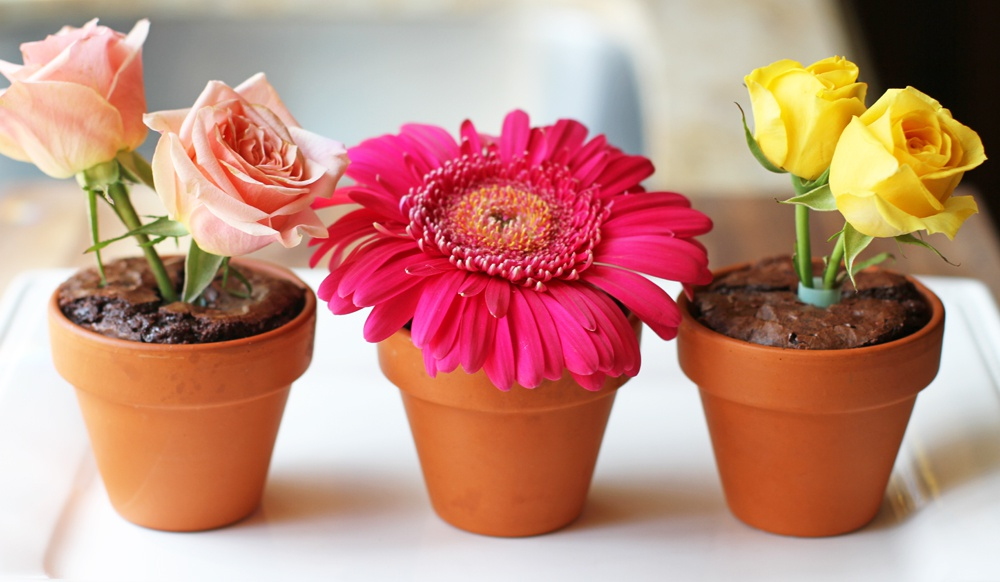flowerpot: (49, 258, 318, 527), (674, 269, 945, 535), (372, 319, 646, 537)
